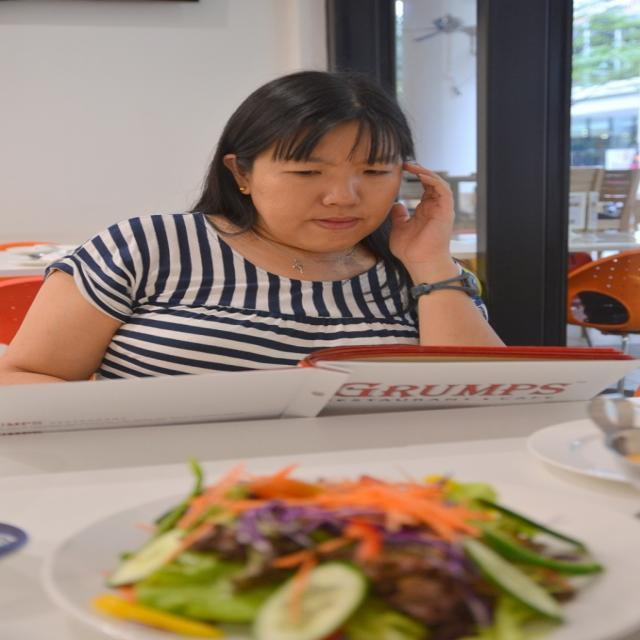Salad: (81, 444, 609, 640)
